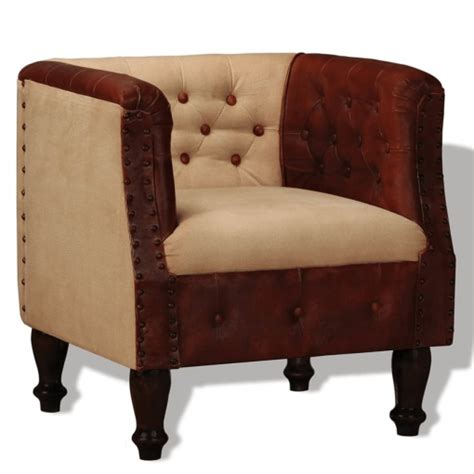cuero: (14, 52, 457, 370)
